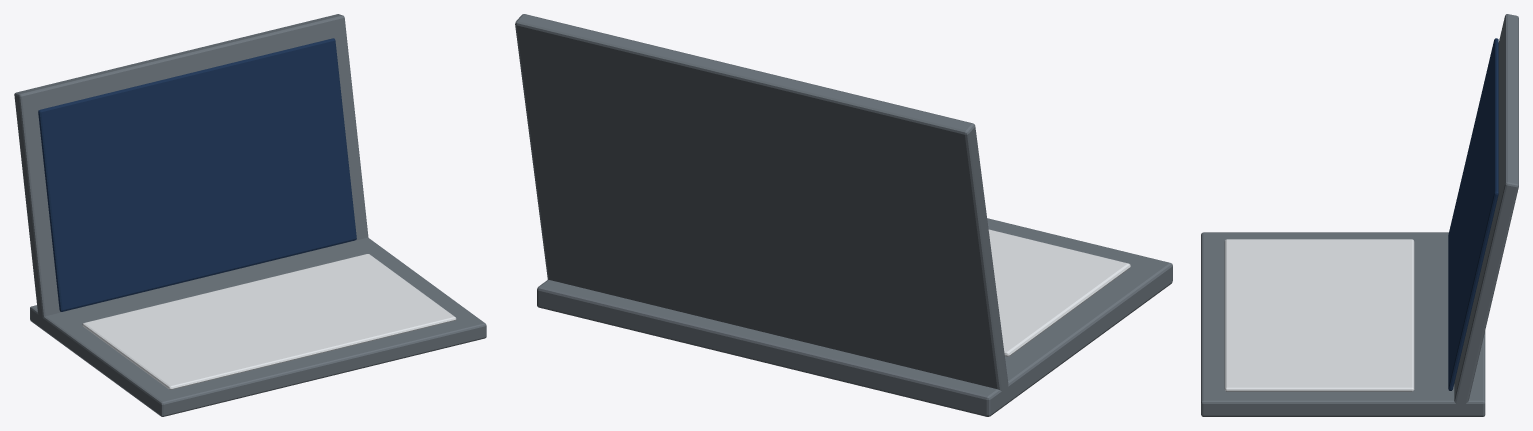
The model's file is laptop.glb.
The picture shows the model from 3 angles, left to right: view 1: azimuth 30°, elevation 25°; view 2: azimuth 150°, elevation 25°; view 3: azimuth 270°, elevation 25°; orthographic projection. The views are drawn at different scales.
Parts seen in each view (by area): view 1: laptop; view 2: laptop; view 3: laptop.
Part boxes in pixels (x1,y1,x2,y2): laptop: (14,14,486,416); laptop: (515,14,1172,416); laptop: (1201,14,1518,416).
Bounding box in the file's own units: 0.34 × 0.2184 × 0.2683.
